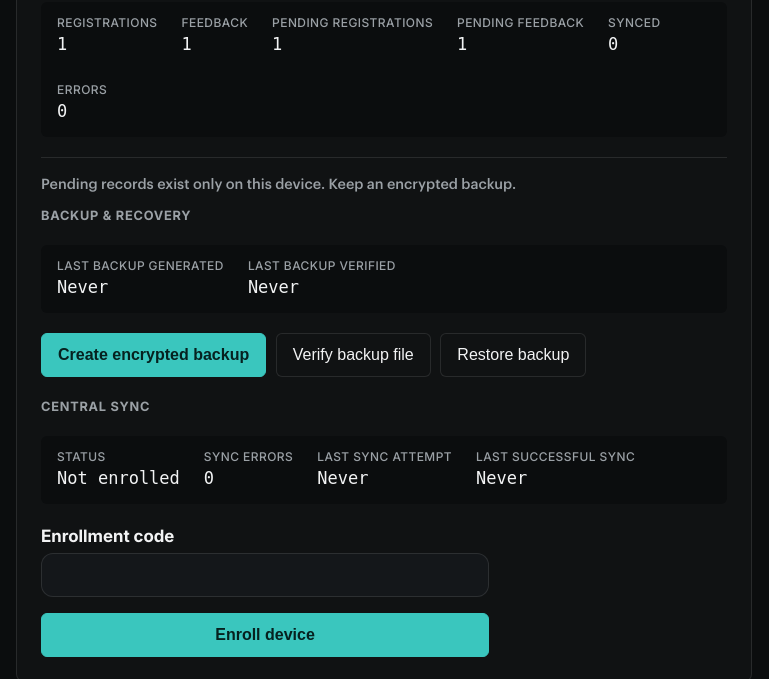
it: creating a backup › requires the confirmation to match
(page scrolled)
Click the button "Create encrypted backup" at {"x": 154, "y": 355}, box [41,333,266,377]
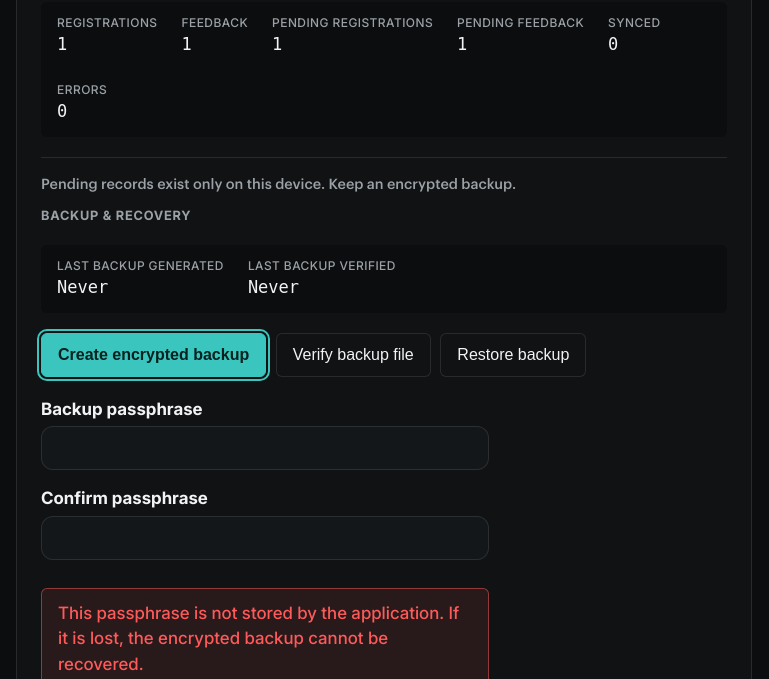
Type "a passphrase of sufficient length" into the password field labelled "Backup passphrase" at {"x": 265, "y": 448}, box [41,426,489,470]
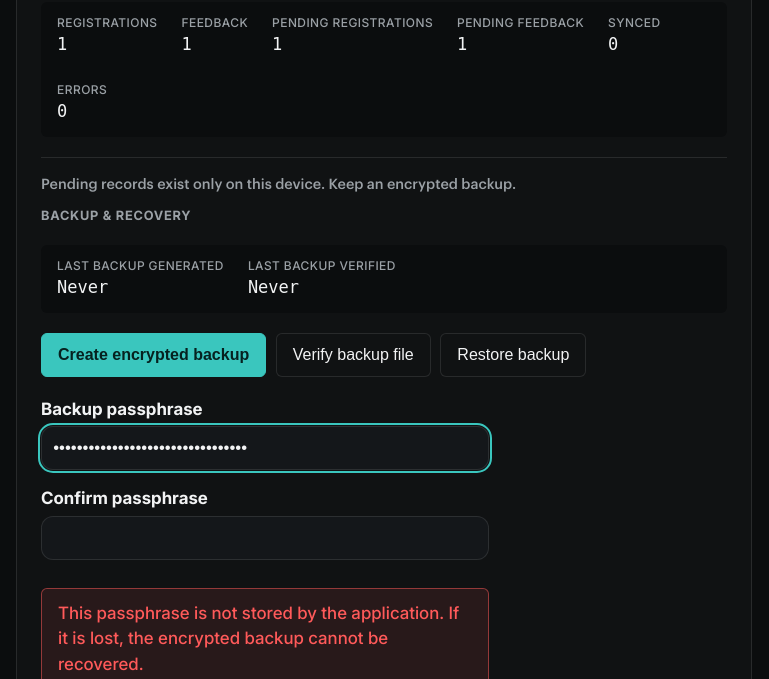
Type "something else" into the password field labelled "Confirm passphrase" at {"x": 265, "y": 538}, box [41,516,489,560]
(page scrolled)
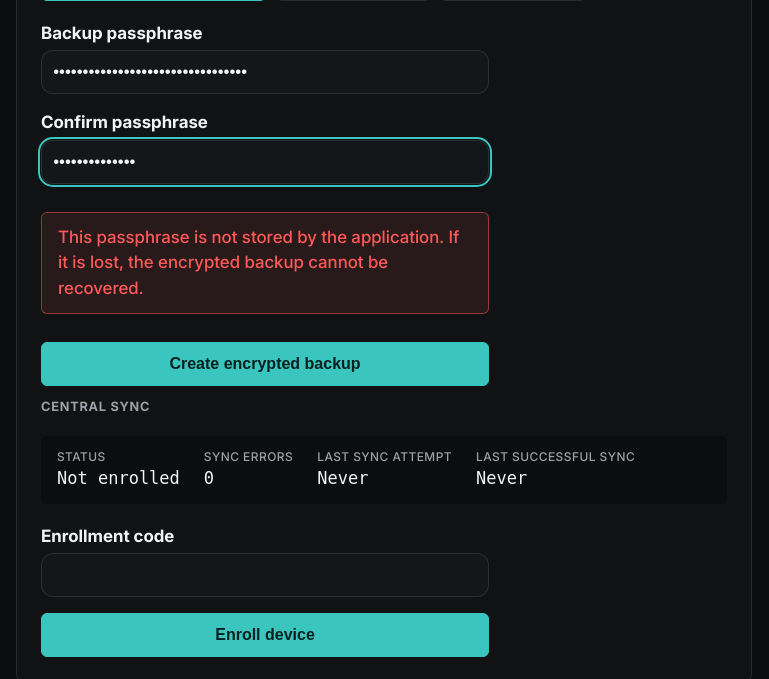
Click the button "Create encrypted backup" below "Confirm passphrase" at {"x": 265, "y": 364}, box [41,342,489,386]
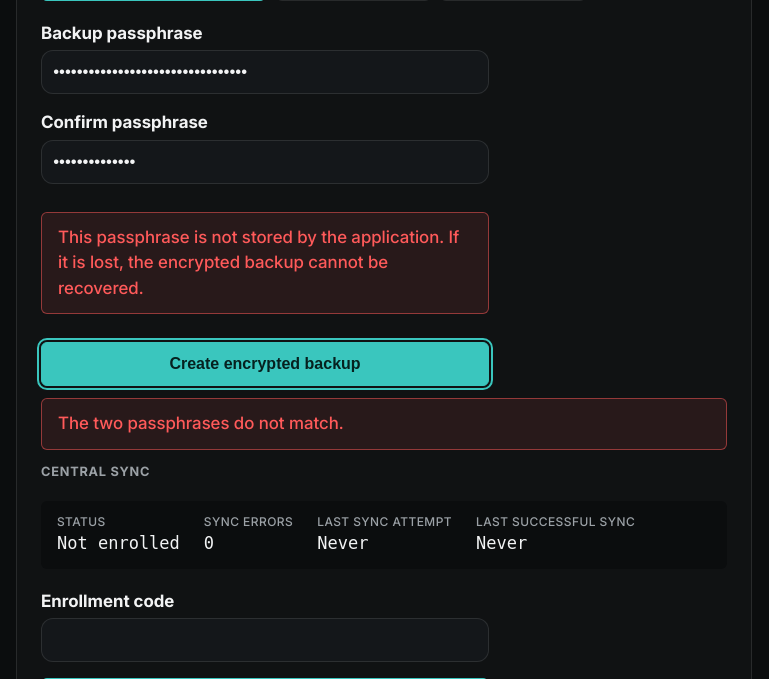
Expected: the message with test id "backup-message" shows "do not match", [58,413,344,433]
